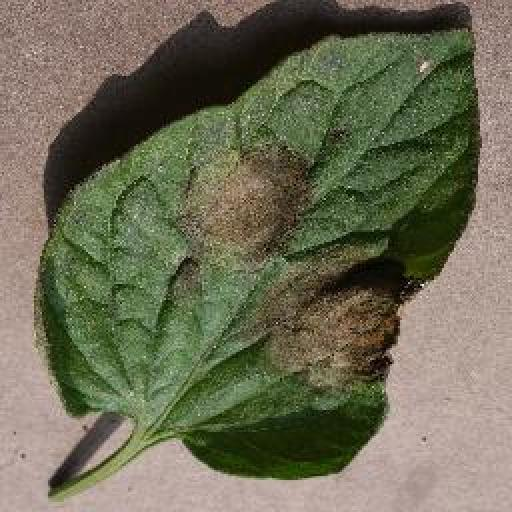disease_tomato: (19, 21, 484, 476)
